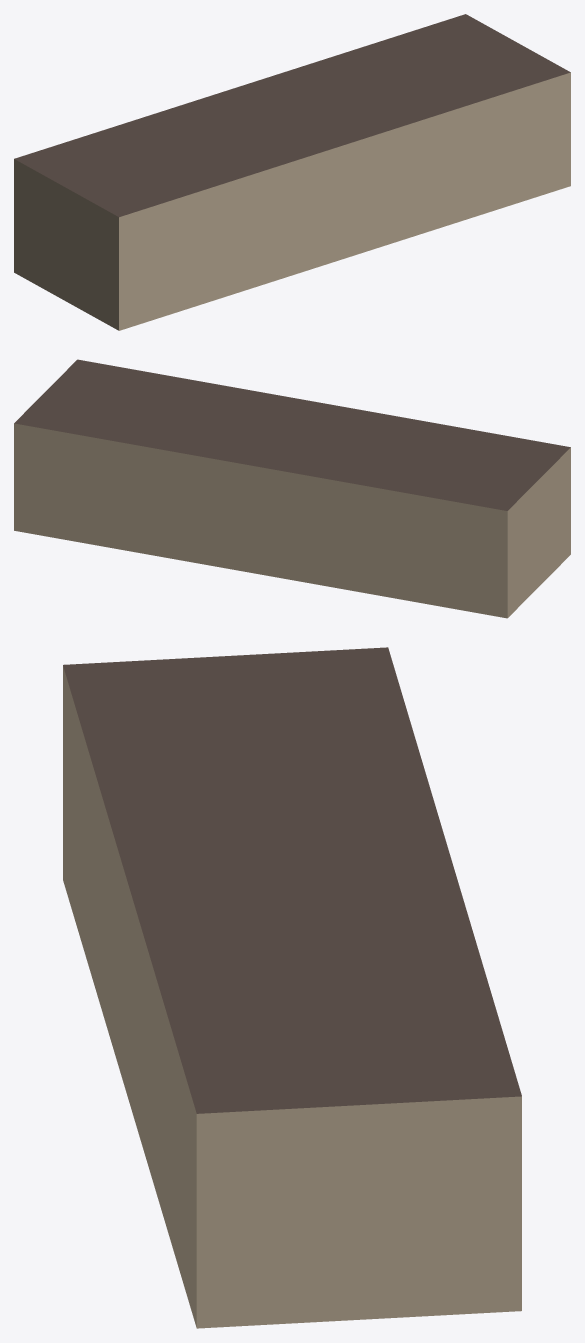
3 views of the same model, one above another, from view 1: azimuth 30°, elevation 25°; view 2: azimuth 150°, elevation 25°; view 3: azimuth 270°, elevation 25° (orthographic). The views are drawn at different scales.
Parts seen in each view (by area): view 1: HP-w859424232; view 2: HP-w859424232; view 3: HP-w859424232.
Part boxes in pixels (x1,y1,x2,y2): HP-w859424232: (14, 14, 570, 330); HP-w859424232: (14, 359, 570, 618); HP-w859424232: (63, 647, 521, 1328).
Size of the model in its own units: 41.94 by 9 by 17.45.
